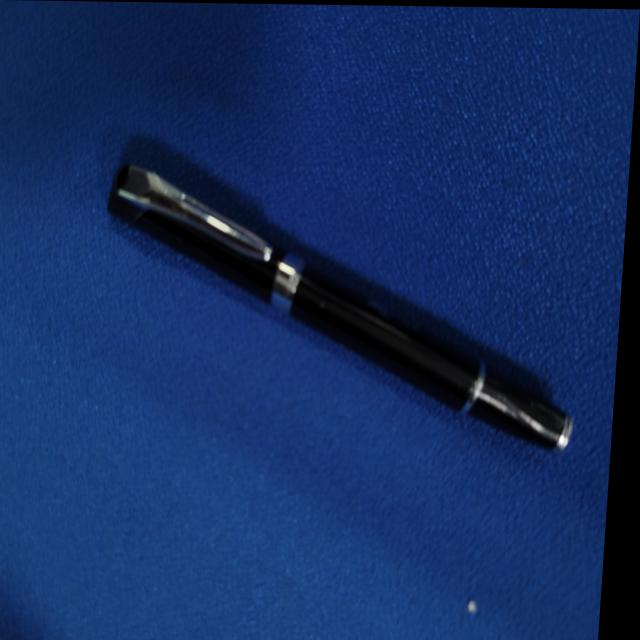caneta: (68, 118, 605, 496)
